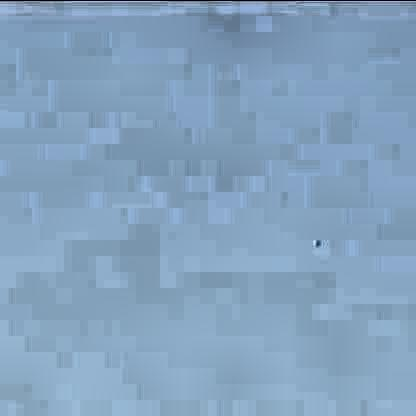golfball: (308, 236, 319, 246)
